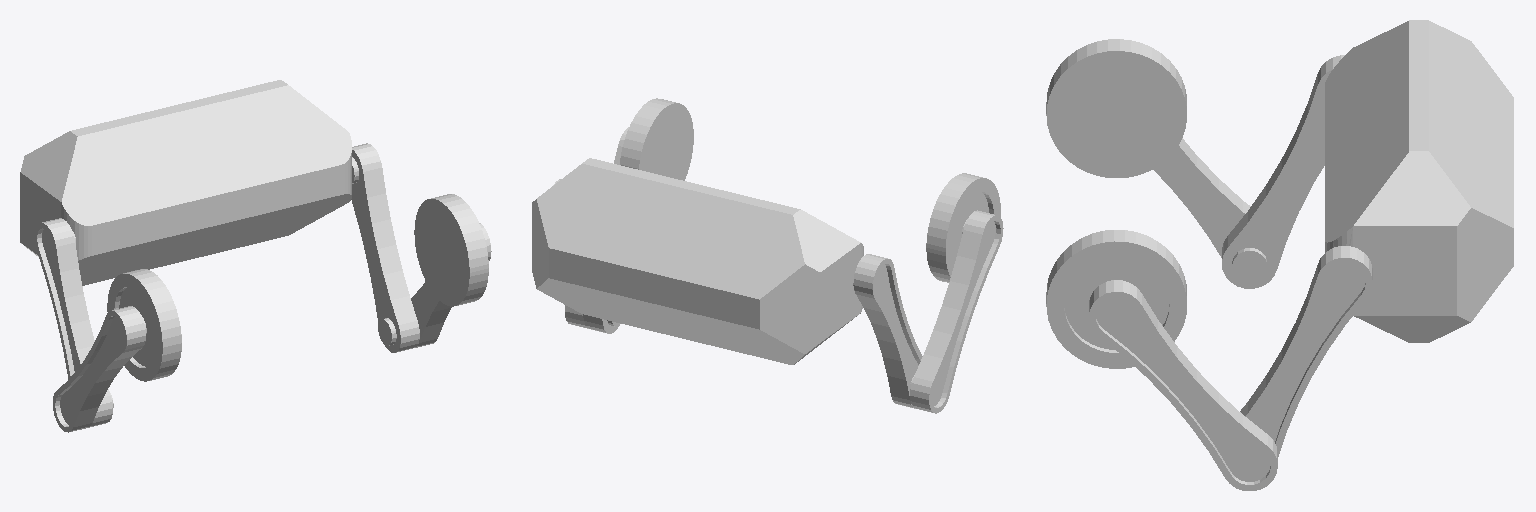
robot.urdf — Bipedal:
<?xml version="1.0" encoding="utf-8"?>
<!-- This URDF was automatically created by SolidWorks to URDF Exporter! Originally created by Stephen Brawner (brawner@gmail.com) 
     Commit Version: 1.6.0-4-g7f85cfe  Build Version: 1.6.7995.38578
     For more information, please see http://wiki.ros.org/sw_urdf_exporter -->
<robot
  name="Bipedal">
  <link
    name="base_link">
    <inertial>
      <origin
        xyz="-1.64012214920461E-08 -0.0680186409737764 -1.39560096812374E-09"
        rpy="0 0 0" />
      <mass
        value="3.63817086802306" />
      <inertia
        ixx="0.00737499625534443"
        ixy="-3.56934836359981E-09"
        ixz="5.13541607458958E-09"
        iyy="0.0285025917062785"
        iyz="-4.61024058491306E-10"
        izz="0.0281335662782507" />
    </inertial>
    <visual>
      <origin
        xyz="0 0 0"
        rpy="0 0 0" />
      <geometry>
        <mesh
          filename="package://Bipedal/meshes/base_link.STL" />
      </geometry>
      <material
        name="">
        <color
          rgba="0.894117647058823 0.894117647058823 0.894117647058823 1" />
      </material>
    </visual>
    <collision>
      <origin
        xyz="0 0 0"
        rpy="0 0 0" />
      <geometry>
        <mesh
          filename="package://Bipedal/meshes/base_link.STL" />
      </geometry>
    </collision>
  </link>
  <link
    name="Link_11">
    <inertial>
      <origin
        xyz="0.0130297428005102 -0.0336883205650267 -0.0670081864961882"
        rpy="0 0 0" />
      <mass
        value="0.101778101785284" />
      <inertia
        ixx="0.000348668430458723"
        ixy="-1.17664760928806E-19"
        ixz="-1.83662609606718E-19"
        iyy="0.000275943650696075"
        iyz="-0.000132491876168229"
        izz="7.901918490929E-05" />
    </inertial>
    <visual>
      <origin
        xyz="0 0 0"
        rpy="0 0 0" />
      <geometry>
        <mesh
          filename="package://Bipedal/meshes/Link_11.STL" />
      </geometry>
      <material
        name="">
        <color
          rgba="0.894117647058823 0.894117647058823 0.894117647058823 1" />
      </material>
    </visual>
    <collision>
      <origin
        xyz="0 0 0"
        rpy="0 0 0" />
      <geometry>
        <mesh
          filename="package://Bipedal/meshes/Link_11.STL" />
      </geometry>
    </collision>
  </link>
  <joint
    name="Link_1_1"
    type="revolute">
    <origin
      xyz="0.145 -0.11978 0"
      rpy="0 0 0" />
    <parent
      link="base_link" />
    <child
      link="Link_11" />
    <axis
      xyz="1 0 0" />
    <limit
      lower="0"
      upper="0"
      effort="0"
      velocity="0" />
  </joint>
  <link
    name="Link_12">
    <inertial>
      <origin
        xyz="0.0330297428005104 -0.0471788439675457 0.0583022871068168"
        rpy="0 0 0" />
      <mass
        value="0.101778101785284" />
      <inertia
        ixx="0.000348668430458728"
        ixy="-7.26354391957009E-20"
        ixz="-1.67279897838773E-20"
        iyy="0.000211913718802414"
        iyz="0.00016144139867083"
        izz="0.000143049116802955" />
    </inertial>
    <visual>
      <origin
        xyz="0 0 0"
        rpy="0 0 0" />
      <geometry>
        <mesh
          filename="package://Bipedal/meshes/Link_12.STL" />
      </geometry>
      <material
        name="">
        <color
          rgba="0.894117647058823 0.894117647058823 0.894117647058823 1" />
      </material>
    </visual>
    <collision>
      <origin
        xyz="0 0 0"
        rpy="0 0 0" />
      <geometry>
        <mesh
          filename="package://Bipedal/meshes/Link_12.STL" />
      </geometry>
    </collision>
  </link>
  <joint
    name="Link_1_2"
    type="revolute">
    <origin
      xyz="0 -0.067377 -0.13402"
      rpy="0 0 0" />
    <parent
      link="Link_11" />
    <child
      link="Link_12" />
    <axis
      xyz="1 0 0" />
    <limit
      lower="0"
      upper="0"
      effort="0"
      velocity="0" />
  </joint>
  <link
    name="Wheel_1">
    <inertial>
      <origin
        xyz="0.00877272727272727 0 0"
        rpy="0 0 0" />
      <mass
        value="0.134990309333937" />
      <inertia
        ixx="0.00018081798537202"
        ixy="-5.19196048036367E-21"
        ixz="1.79688238344181E-20"
        iyy="9.41531143993749E-05"
        iyz="5.19513869960735E-34"
        izz="9.41531143993748E-05" />
    </inertial>
    <visual>
      <origin
        xyz="0 0 0"
        rpy="0 0 0" />
      <geometry>
        <mesh
          filename="package://Bipedal/meshes/Wheel_1.STL" />
      </geometry>
      <material
        name="">
        <color
          rgba="0.894117647058823 0.894117647058823 0.894117647058823 1" />
      </material>
    </visual>
    <collision>
      <origin
        xyz="0 0 0"
        rpy="0 0 0" />
      <geometry>
        <mesh
          filename="package://Bipedal/meshes/Wheel_1.STL" />
      </geometry>
    </collision>
  </link>
  <joint
    name="Wheel_1"
    type="continuous">
    <origin
      xyz="0.005 -0.094358 0.1166"
      rpy="0 0 0" />
    <parent
      link="Link_12" />
    <child
      link="Wheel_1" />
    <axis
      xyz="1 0 0" />
  </joint>
  <link
    name="Link_21">
    <inertial>
      <origin
        xyz="-0.0130297428005103 -0.033688320565027 -0.0670081864961878"
        rpy="0 0 0" />
      <mass
        value="0.101778101785284" />
      <inertia
        ixx="0.000348668430458732"
        ixy="-1.12686909195126E-19"
        ixz="1.85297135623396E-19"
        iyy="0.000275943650696072"
        iyz="-0.00013249187616823"
        izz="7.90191849093019E-05" />
    </inertial>
    <visual>
      <origin
        xyz="0 0 0"
        rpy="0 0 0" />
      <geometry>
        <mesh
          filename="package://Bipedal/meshes/Link_21.STL" />
      </geometry>
      <material
        name="">
        <color
          rgba="0.894117647058823 0.894117647058823 0.894117647058823 1" />
      </material>
    </visual>
    <collision>
      <origin
        xyz="0 0 0"
        rpy="0 0 0" />
      <geometry>
        <mesh
          filename="package://Bipedal/meshes/Link_21.STL" />
      </geometry>
    </collision>
  </link>
  <joint
    name="Link_2_1"
    type="revolute">
    <origin
      xyz="-0.145 -0.11978 0"
      rpy="0 0 0" />
    <parent
      link="base_link" />
    <child
      link="Link_21" />
    <axis
      xyz="1 0 0" />
    <limit
      lower="0"
      upper="0"
      effort="0"
      velocity="0" />
  </joint>
  <link
    name="Link_22">
    <inertial>
      <origin
        xyz="-0.0330297428005104 -0.0471788439675451 0.0583022871068164"
        rpy="0 0 0" />
      <mass
        value="0.101778101785284" />
      <inertia
        ixx="0.000348668430458713"
        ixy="1.13331142245273E-19"
        ixz="-3.38438081436567E-19"
        iyy="0.000211913718802399"
        iyz="0.000161441398670837"
        izz="0.000143049116802956" />
    </inertial>
    <visual>
      <origin
        xyz="0 0 0"
        rpy="0 0 0" />
      <geometry>
        <mesh
          filename="package://Bipedal/meshes/Link_22.STL" />
      </geometry>
      <material
        name="">
        <color
          rgba="0.894117647058823 0.894117647058823 0.894117647058823 1" />
      </material>
    </visual>
    <collision>
      <origin
        xyz="0 0 0"
        rpy="0 0 0" />
      <geometry>
        <mesh
          filename="package://Bipedal/meshes/Link_22.STL" />
      </geometry>
    </collision>
  </link>
  <joint
    name="Link_2_2"
    type="revolute">
    <origin
      xyz="0 -0.067377 -0.13402"
      rpy="0 0 0" />
    <parent
      link="Link_21" />
    <child
      link="Link_22" />
    <axis
      xyz="1 0 0" />
    <limit
      lower="0"
      upper="0"
      effort="0"
      velocity="0" />
  </joint>
  <link
    name="Wheel_2">
    <inertial>
      <origin
        xyz="-0.00877272727272727 0 -2.22044604925031E-16"
        rpy="0 0 0" />
      <mass
        value="0.134990309333937" />
      <inertia
        ixx="0.00018081798537202"
        ixy="5.2716483289153E-21"
        ixz="-1.79688238344181E-20"
        iyy="9.41531143993749E-05"
        iyz="6.67910177575029E-34"
        izz="9.41531143993748E-05" />
    </inertial>
    <visual>
      <origin
        xyz="0 0 0"
        rpy="0 0 0" />
      <geometry>
        <mesh
          filename="package://Bipedal/meshes/Wheel_2.STL" />
      </geometry>
      <material
        name="">
        <color
          rgba="0.894117647058823 0.894117647058823 0.894117647058823 1" />
      </material>
    </visual>
    <collision>
      <origin
        xyz="0 0 0"
        rpy="0 0 0" />
      <geometry>
        <mesh
          filename="package://Bipedal/meshes/Wheel_2.STL" />
      </geometry>
    </collision>
  </link>
  <joint
    name="Wheel_2"
    type="continuous">
    <origin
      xyz="-0.005 -0.094358 0.1166"
      rpy="0 0 0" />
    <parent
      link="Link_22" />
    <child
      link="Wheel_2" />
    <axis
      xyz="1 0 0" />
  </joint>
</robot>

--- What the picture shows (computed from the rendered views, not written in the file) ---
The picture shows the robot from 3 angles, left to right: view 1: azimuth 30°, elevation 25°; view 2: azimuth 150°, elevation 25°; view 3: azimuth 270°, elevation 25°; orthographic projection.
Model Bipedal with 7 links and 6 joints (4 revolute, 2 continuous), rooted at base_link, posed all joints at 0.
Visible links, largest first — view 1: base_link, Link_11, Wheel_1, Link_21, Link_22, Wheel_2, Link_12; view 2: base_link, Link_22, Link_21, Wheel_1, Wheel_2; view 3: base_link, Wheel_2, Link_12, Wheel_1, Link_11, Link_21, Link_22.
Boxes of the visible links, x1,y1,x2,y2 form: base_link: (20, 80, 351, 285); Link_11: (351, 143, 419, 352); Wheel_1: (414, 194, 488, 306); Link_21: (34, 218, 113, 427); Link_22: (53, 306, 146, 432); Wheel_2: (107, 269, 181, 381); Link_12: (411, 223, 491, 347); base_link: (532, 158, 863, 364); Link_22: (910, 210, 1003, 413); Link_21: (853, 254, 922, 408); Wheel_1: (620, 98, 693, 180); Wheel_2: (926, 173, 1000, 282); base_link: (1325, 20, 1513, 342); Wheel_2: (1046, 39, 1186, 177); Link_12: (1089, 280, 1277, 490); Wheel_1: (1046, 230, 1186, 368); Link_11: (1240, 246, 1372, 456); Link_21: (1222, 55, 1344, 288); Link_22: (1153, 138, 1250, 257).
Size in the robot's own frame: 0.38 by 0.3315 by 0.2289 metres.
7 mesh visuals loaded from 7 distinct referenced files (7 binary STL).
